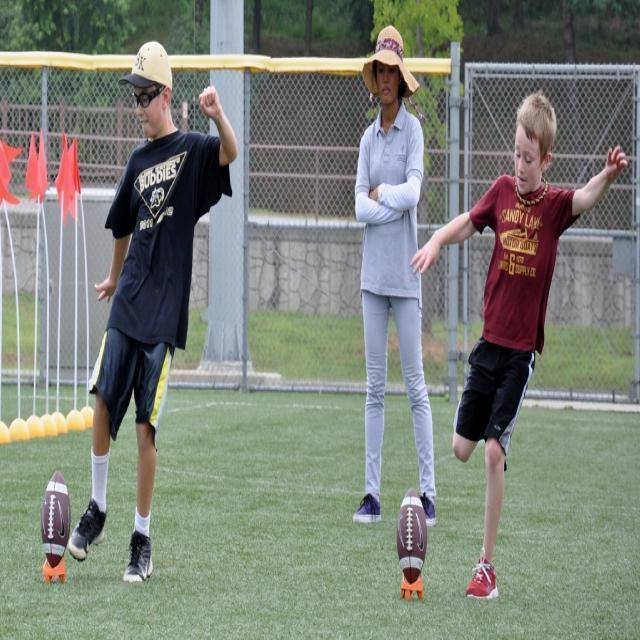ball: (39, 473, 74, 567), (397, 486, 426, 582)
